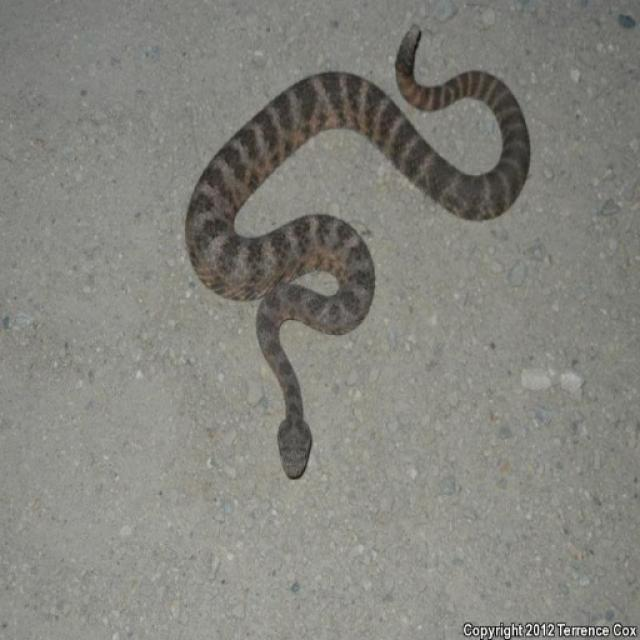snake: (170, 28, 548, 502)
